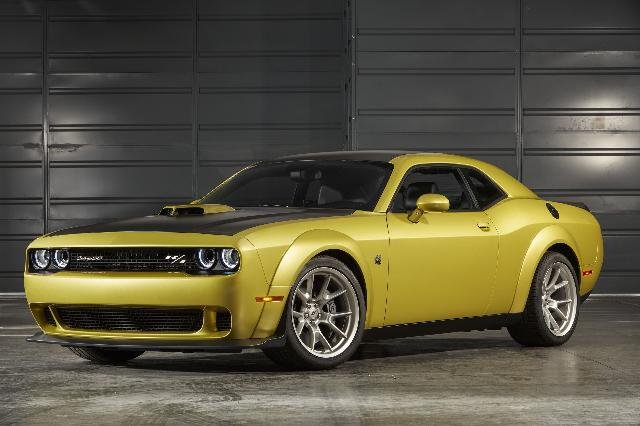dodge: (23, 150, 605, 370)
